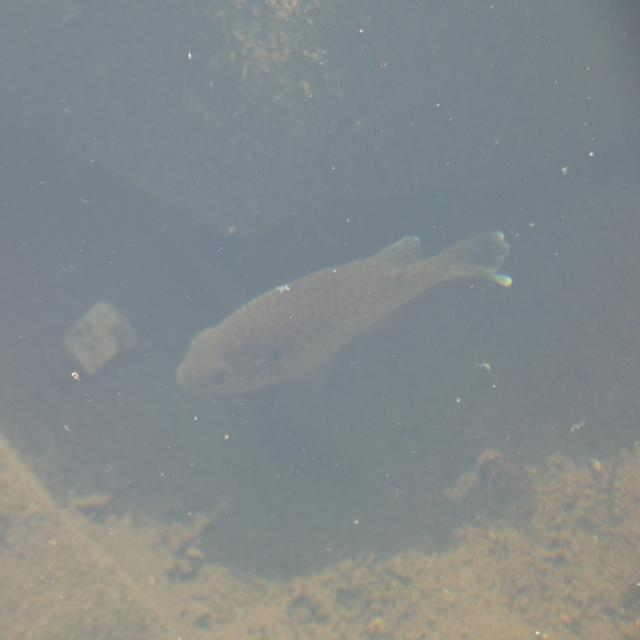Gunes Levregi: (174, 228, 514, 398)
